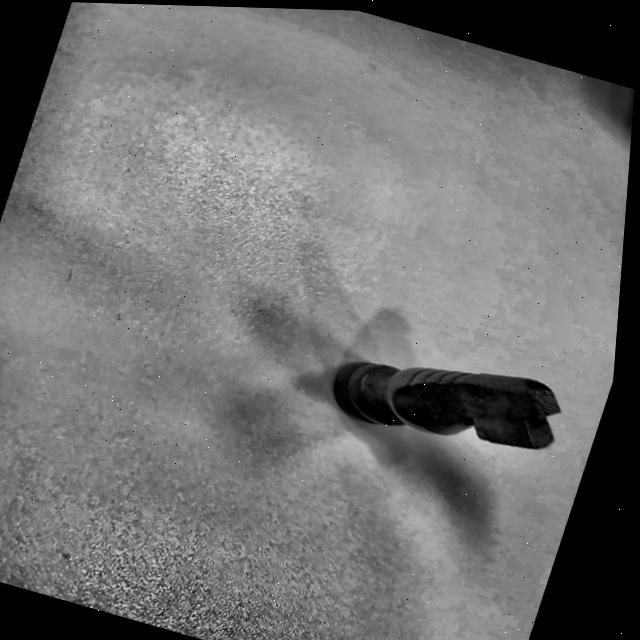black-knight: (298, 315, 589, 485)
